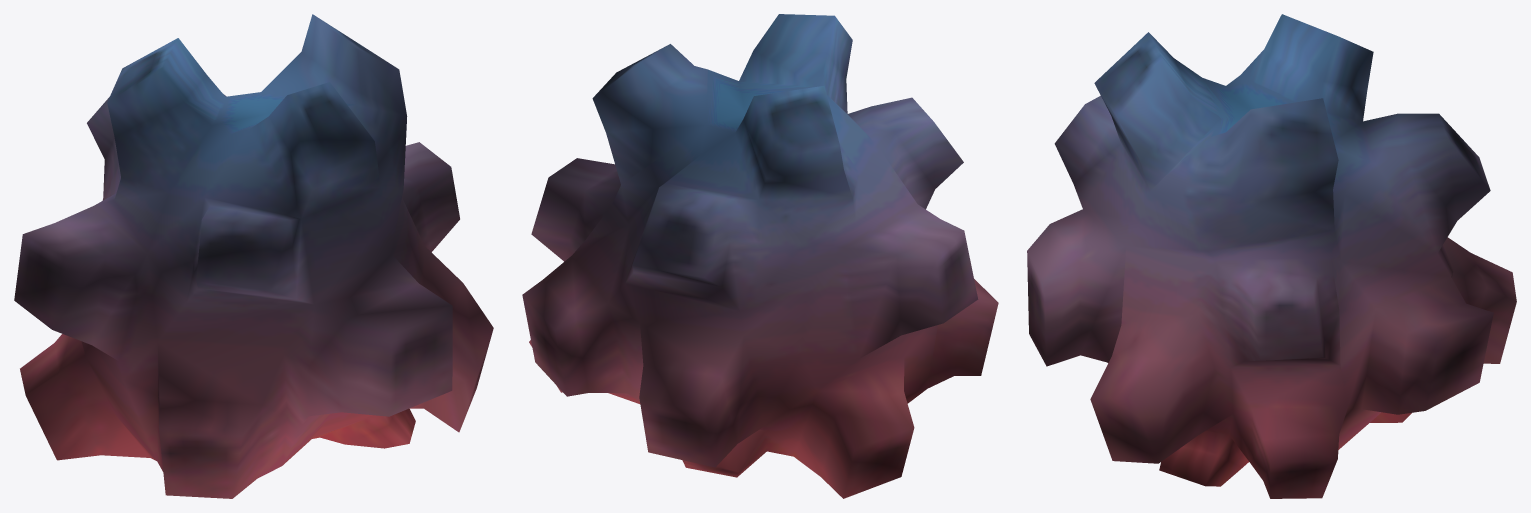
Rendered from ultra4.ico.obj.
The picture shows the model from 3 angles, left to right: view 1: azimuth 30°, elevation 25°; view 2: azimuth 150°, elevation 25°; view 3: azimuth 270°, elevation 25°; orthographic projection. The views are drawn at different scales.
Bounding box in the file's own units: 4.46 × 3.95 × 4.5.
1 material, 1 textured.
